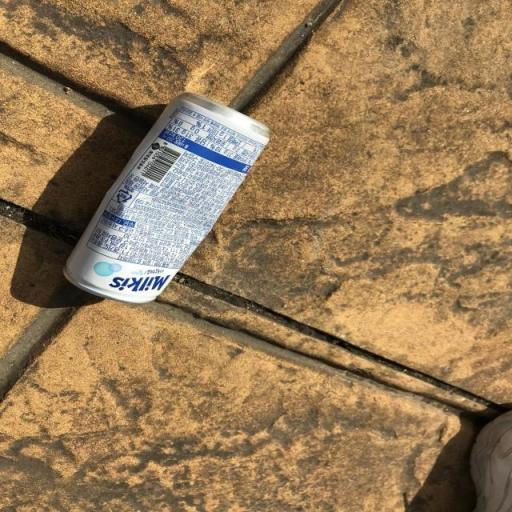metal: (46, 81, 307, 316)
